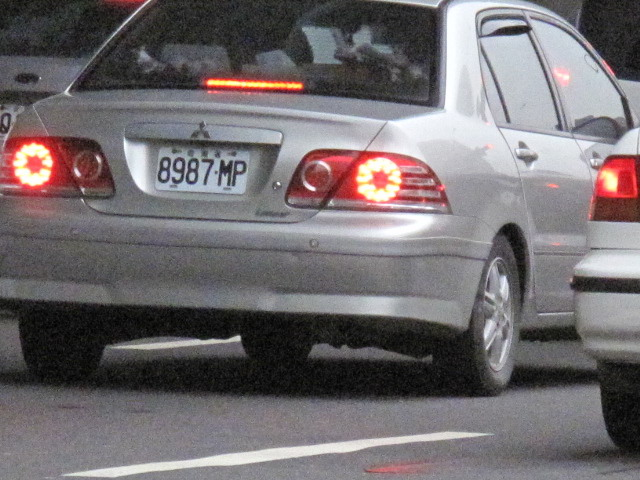plate: (154, 145, 252, 196)
